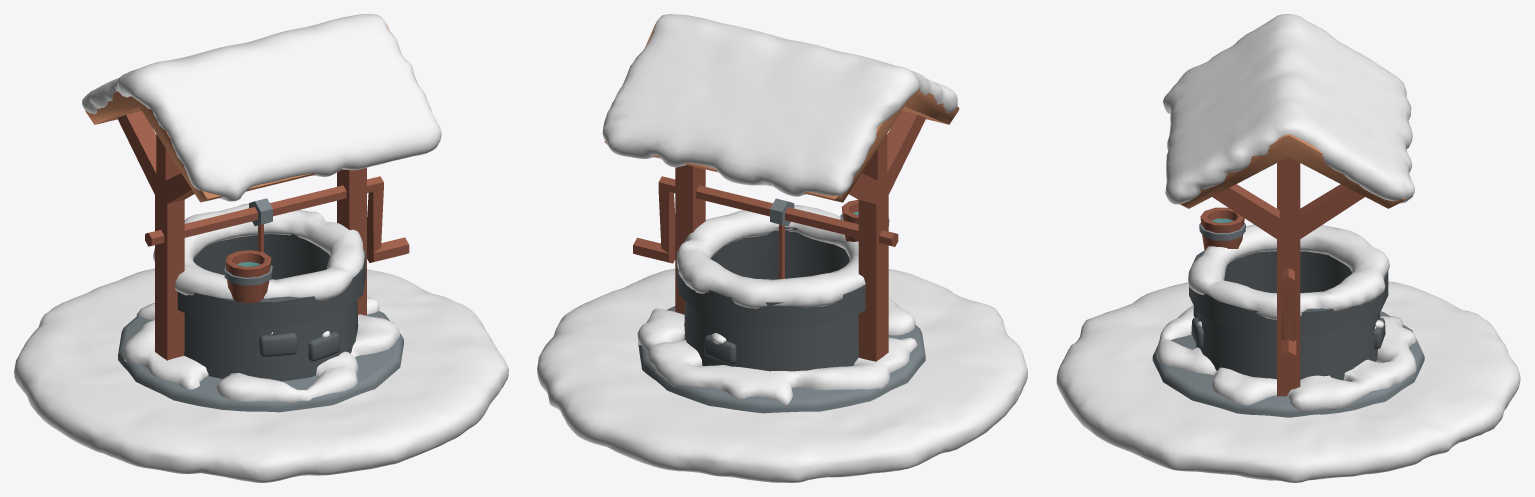
File: welll.fbx
3 renders of one model, left to right at view 1: azimuth 30°, elevation 25°; view 2: azimuth 150°, elevation 25°; view 3: azimuth 270°, elevation 25°, orthographic. The views are drawn at different scales.
Parts seen in each view (by area): view 1: SnowBall.072, SnowBall.071, well, SnowBall.073, SnowBall.074, well.003, well.001, well.004, well.007, well.006, well.002, well.020 (+1 smaller); view 2: SnowBall.072, SnowBall.071, well, SnowBall.074, SnowBall.073, well.003, well.001, well.004, well.002, well.006, well.021; view 3: SnowBall.072, SnowBall.071, well, SnowBall.074, SnowBall.073, well.002, well.001, well.006, well.007, well.004.
Boxes of the visible parts, x1,y1,x2,y2 form: SnowBall.072: [14, 268, 508, 482]; SnowBall.071: [82, 14, 441, 201]; well: [177, 234, 365, 381]; SnowBall.073: [153, 203, 364, 300]; SnowBall.074: [123, 296, 400, 402]; well.003: [117, 111, 194, 360]; well.001: [118, 311, 403, 412]; well.004: [145, 176, 409, 262]; well.007: [224, 250, 272, 303]; well.006: [85, 23, 389, 202]; well.002: [337, 168, 366, 315]; well.020: [259, 333, 297, 356]; SnowBall.072: [537, 268, 1027, 482]; SnowBall.071: [602, 14, 957, 196]; well: [676, 227, 865, 371]; SnowBall.074: [637, 298, 917, 405]; SnowBall.073: [676, 205, 865, 308]; well.003: [849, 111, 926, 361]; well.001: [638, 306, 925, 413]; well.004: [633, 176, 898, 263]; well.002: [675, 165, 705, 314]; well.006: [604, 24, 959, 202]; well.021: [704, 335, 736, 363]; SnowBall.072: [1056, 281, 1520, 482]; SnowBall.071: [1162, 14, 1414, 204]; well: [1189, 250, 1388, 380]; SnowBall.074: [1157, 305, 1416, 411]; SnowBall.073: [1188, 224, 1389, 319]; well.002: [1212, 157, 1364, 396]; well.001: [1152, 311, 1424, 417]; well.006: [1180, 134, 1404, 208]; well.007: [1199, 207, 1245, 250]; well.004: [1281, 268, 1296, 367].
Bounding box in the file's own units: 103 × 79.37 × 103.
